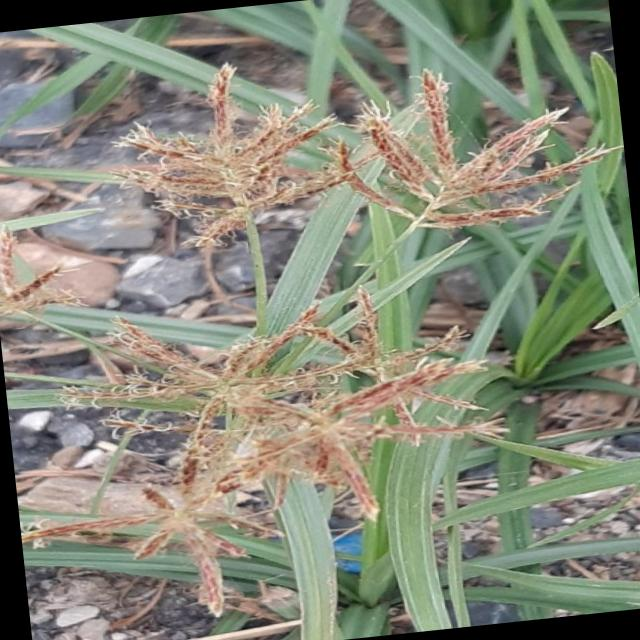Lolium: (0, 215, 90, 338)
cyperus: (62, 268, 535, 603), (119, 36, 605, 284)
